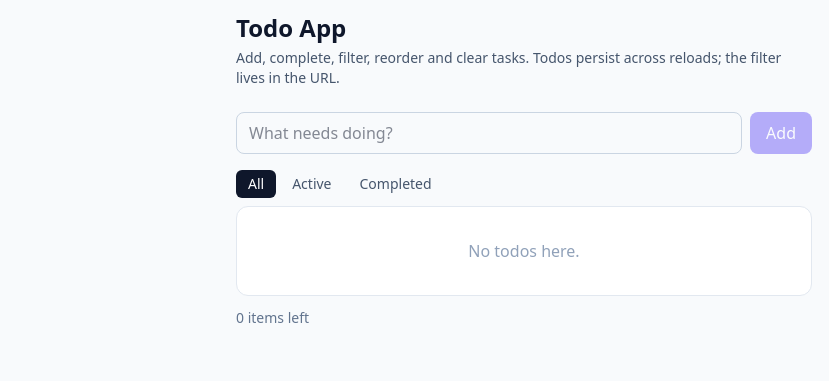
Test: TodoApp › writes the active filter to the URL and filters the list
The width and height of the screenshot is (829, 381).
Type "Keep me active" into the field named "New todo".
click(489, 133); type("Keep me active")  # box [236,112,742,154]
Then press Enter
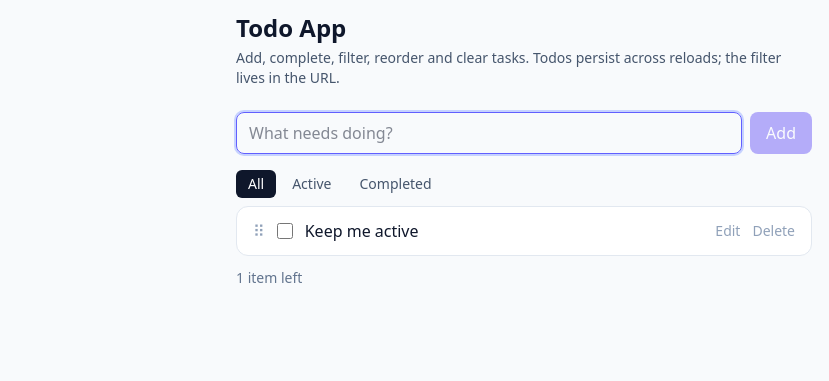
Type "Complete me" into the field named "New todo".
click(489, 133); type("Complete me")  # box [236,112,742,154]
Then press Enter
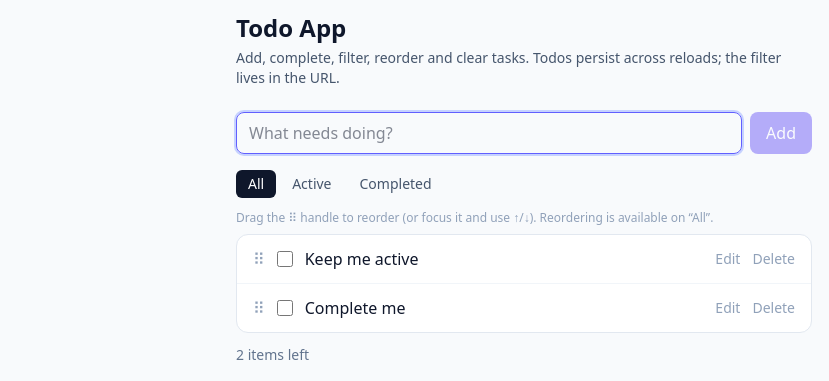
Click the checkbox named "Mark \"Complete me\" as completed".
click(285, 308)  # box [277,300,293,316]
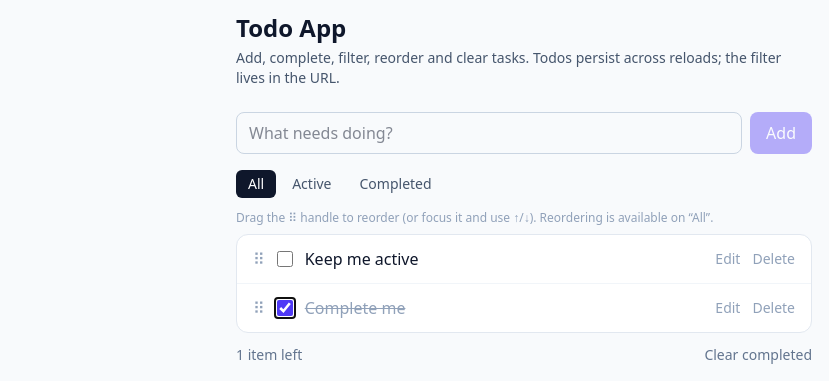
Click the button "active".
click(312, 184)  # box [280,170,344,198]
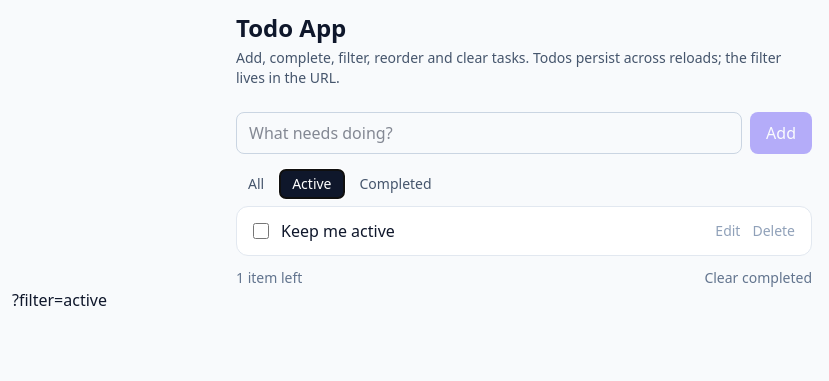
Check: the text with test id "search" shows "filter=active", box [12,289,107,311]
Check: the button "Complete me" is gone
